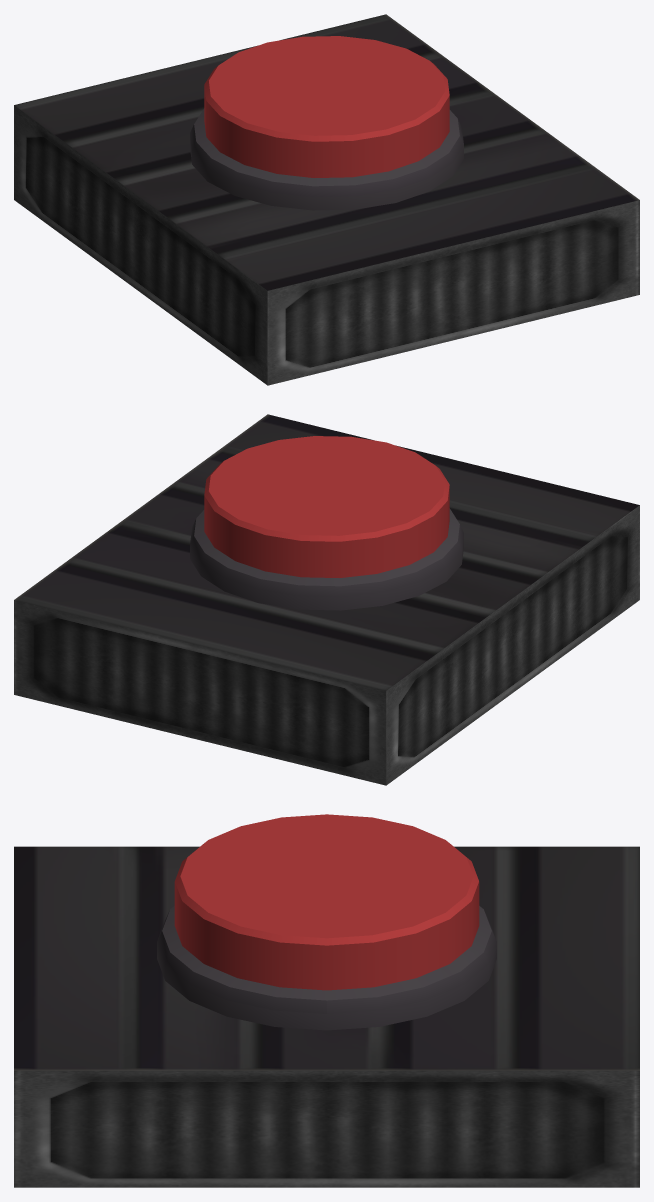
The model's file is Button_low.fbx.
3 views of the same model, one above another, from view 1: azimuth 30°, elevation 25°; view 2: azimuth 150°, elevation 25°; view 3: azimuth 270°, elevation 25° (orthographic). The views are drawn at different scales.
Parts seen in each view (by area): view 1: ButtonBase, ButtonFace; view 2: ButtonBase, ButtonFace; view 3: ButtonBase, ButtonFace.
Part boxes in pixels (x1,y1,x2,y2): ButtonBase: (14,14,639,385); ButtonFace: (204,36,449,177); ButtonBase: (14,414,639,785); ButtonFace: (204,436,449,577); ButtonBase: (14,846,639,1187); ButtonFace: (174,814,479,990).
Bounding box in the file's own units: 0.4953 × 0.2053 × 0.5847.
